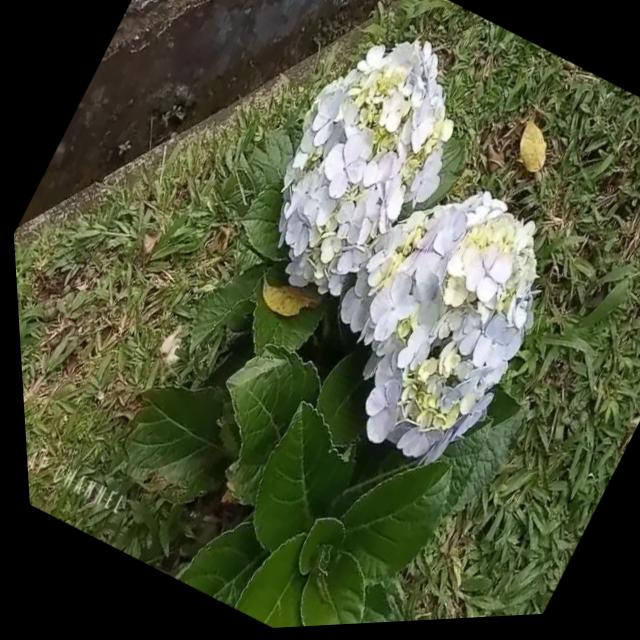Flower: (289, 135, 594, 483), (214, 8, 497, 340)
